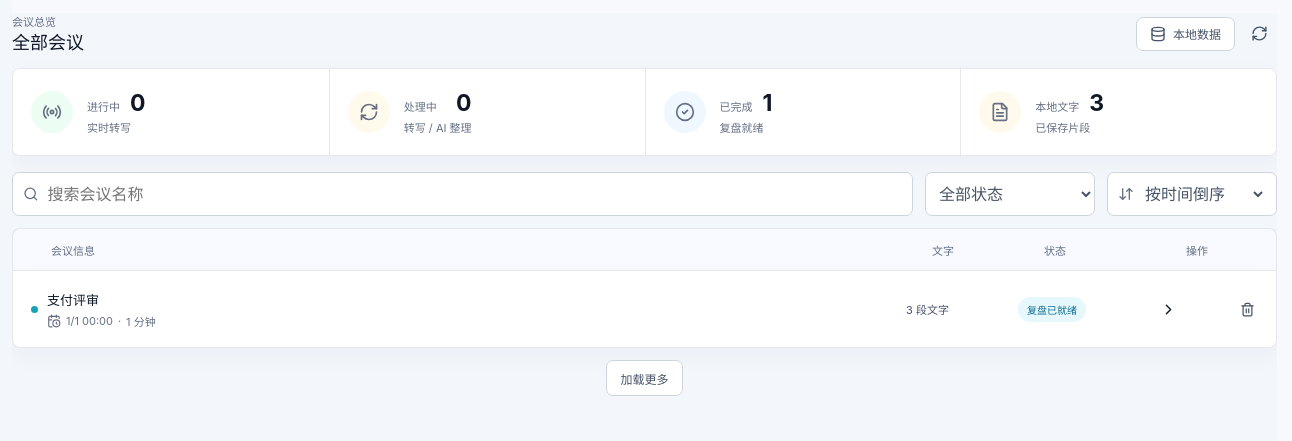
Test: MeetingHistory › loads additional history through the server cursor instead of slicing a local list
Expected: the text "支付评审" is shown, [47,292,99,308]
Click the button "加载更多" at (644, 378), box [606,360,682,396]
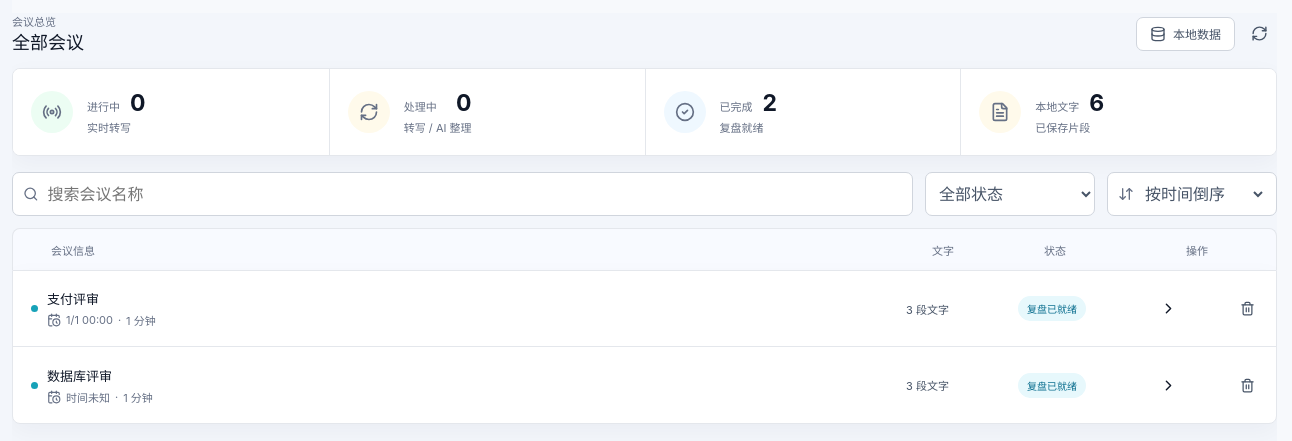
Result: the text "数据库评审" is shown at [47,368,112,384]
